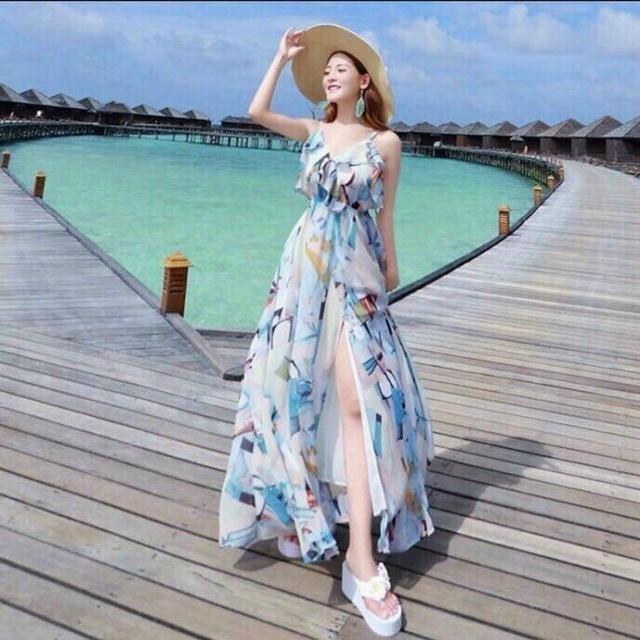clothes: (216, 118, 434, 560)
